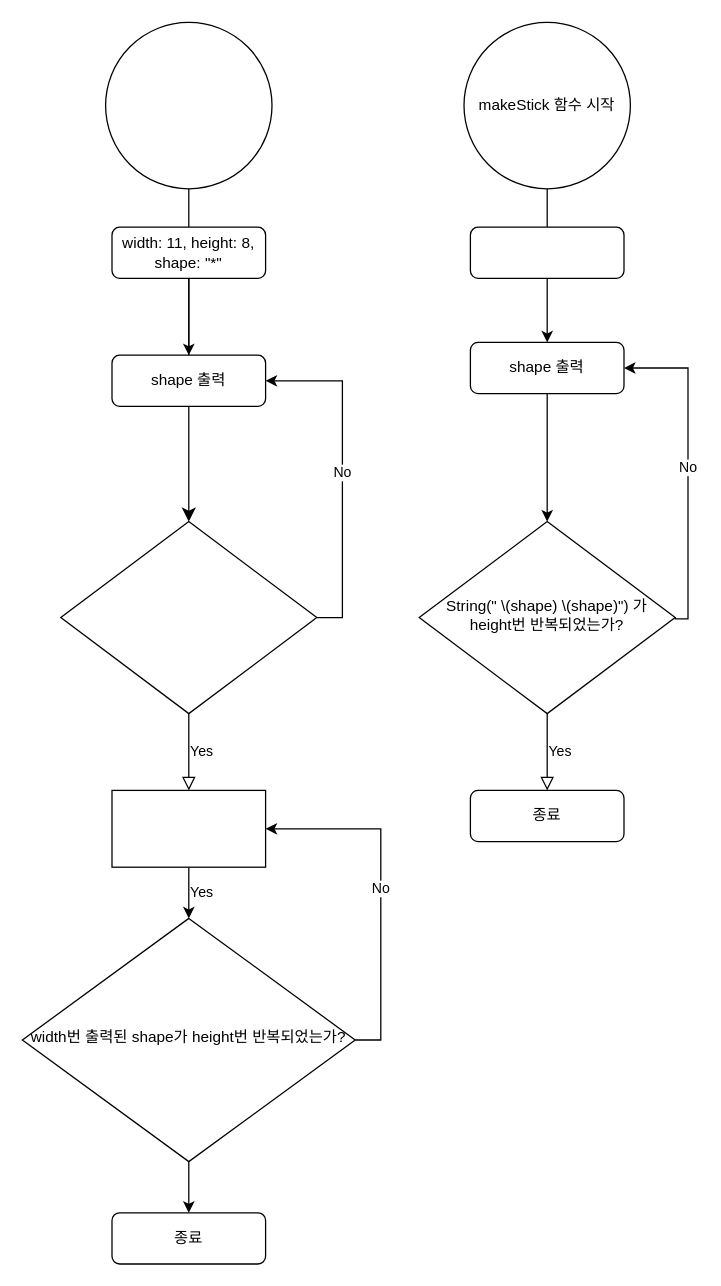
This 721x1286 diagram has some shape labels left out. Each missing label, with the box of its shape:
height: 8, shape: "|": (469, 226, 624, 278)
makeIcecream 함수 시작: (104, 21, 272, 189)
shape 반복: (111, 789, 266, 867)
shape가 width번 출력되었는가?: (60, 520, 317, 714)
